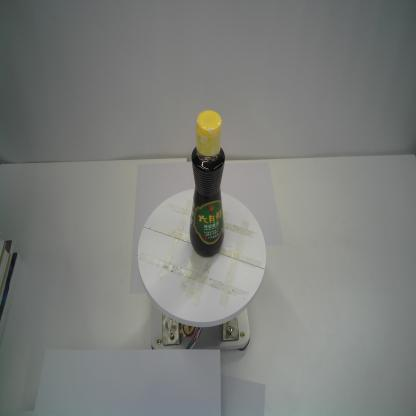Seasoner: (187, 108, 228, 260)
